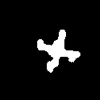single_crochet: (37, 30, 79, 72)
